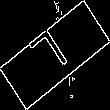L_SE: (31, 26, 79, 84)
